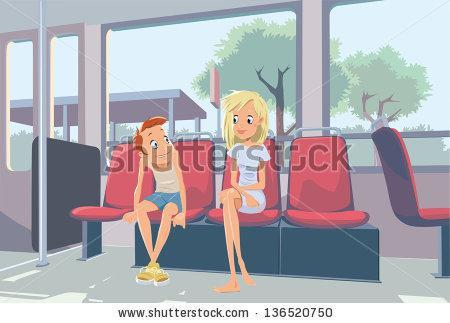chair: (357, 116, 444, 279), (282, 123, 374, 246), (69, 134, 142, 233), (145, 136, 219, 231), (216, 131, 284, 227)
person: (208, 85, 282, 298), (116, 110, 195, 291)
